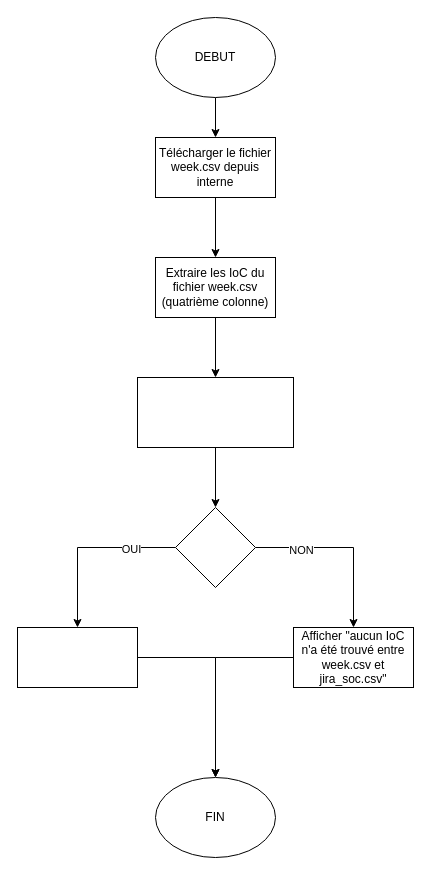
Some shapes in this 431 by 875 pixel diagram are drawn without their labels. The shapes that lost their labels are listed below. From the top down, each one's centre as x and y in pixels, then its label:
(215,412): Lire le fichier jira_soc.csv à la recherche des ioC identifié précédemment
(215,547): IoC trouvés ?
(77,657): Afficher la ligne correspondante dans week.csv
